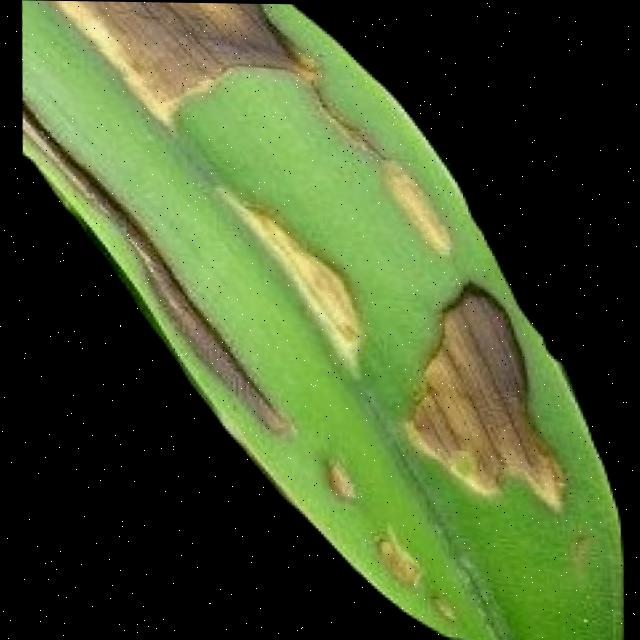mite: (298, 263, 617, 640), (306, 445, 451, 626), (356, 521, 450, 623), (542, 512, 604, 635), (19, 147, 62, 259), (359, 526, 410, 585), (548, 512, 594, 571), (313, 451, 348, 501), (19, 147, 30, 264), (556, 523, 586, 560), (415, 586, 447, 620), (560, 600, 590, 632), (566, 606, 585, 626)
spots: (18, 0, 626, 640)
sunburn: (395, 270, 567, 514)
